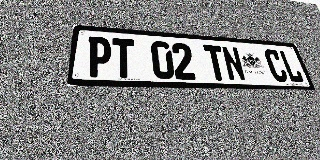0: (150, 41, 175, 79)
2: (171, 42, 196, 80)
C: (263, 49, 290, 82)
L: (278, 50, 305, 83)
N: (221, 46, 247, 81)
P: (86, 36, 111, 78)
T: (112, 38, 136, 78), (203, 45, 229, 81)
